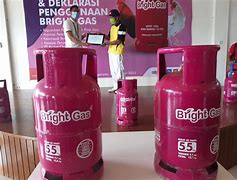bright_gas: (32, 48, 104, 180), (155, 45, 218, 180), (116, 78, 139, 128)
